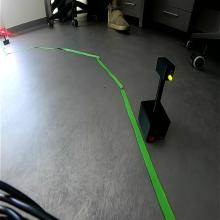green: (154, 56, 177, 82)
